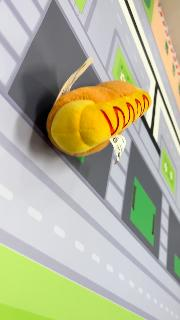hotdog: (46, 80, 152, 158)
